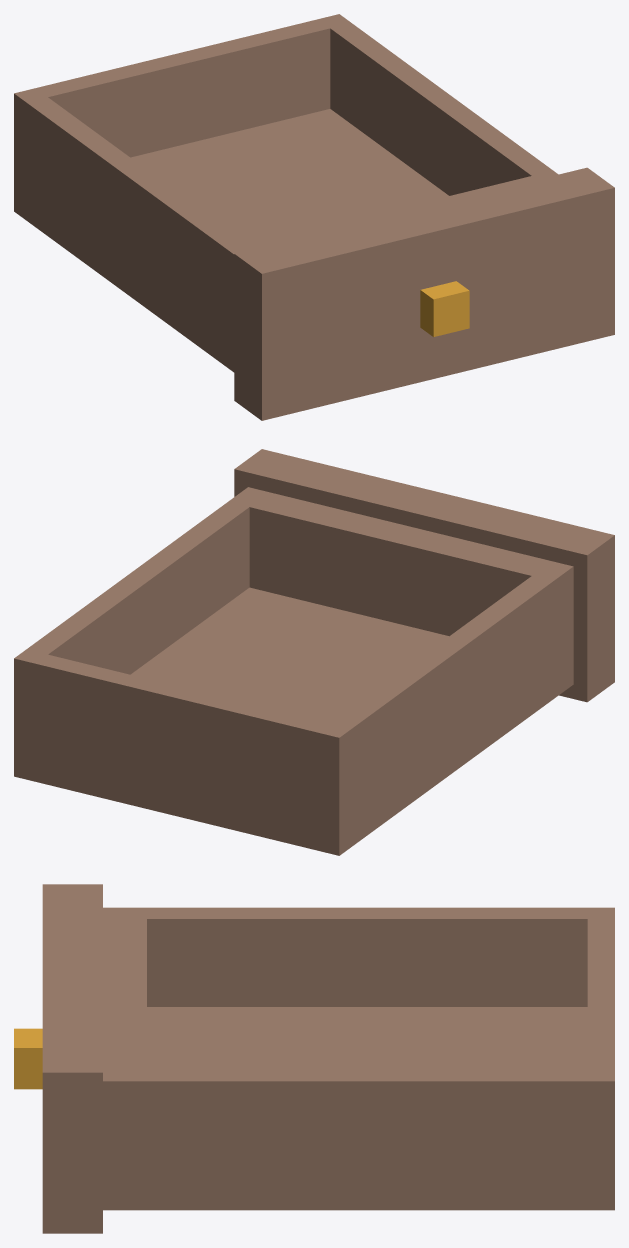
Rendered from drawer_weaponholder_drawer.fbx.
3 views of the same model, one above another, from view 1: azimuth 30°, elevation 25°; view 2: azimuth 150°, elevation 25°; view 3: azimuth 270°, elevation 25° (orthographic). The views are drawn at different scales.
Visible parts, largest first — view 1: Cube.054; view 2: Cube.054; view 3: Cube.054.
Part boxes in pixels (<box>): Cube.054: <box>14,14,614,420</box>; Cube.054: <box>14,449,614,855</box>; Cube.054: <box>14,884,614,1233</box>.
Bounding box in the file's own units: 104 × 41.39 × 140.
